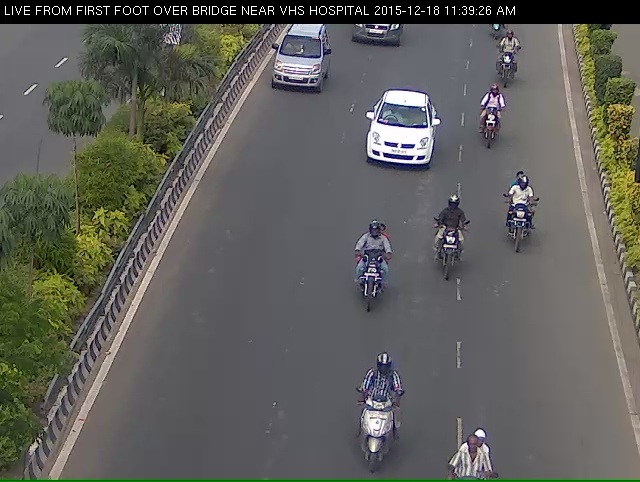Car: (368, 101, 429, 183), (270, 27, 329, 104)
Person: (350, 386, 396, 482), (432, 212, 471, 300), (348, 235, 385, 325), (506, 187, 536, 261), (474, 96, 502, 159), (497, 33, 515, 94)
